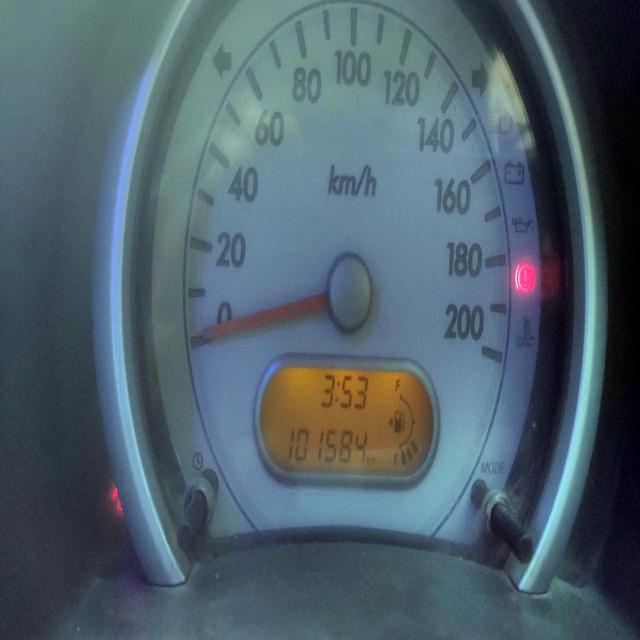odometer: (286, 421, 371, 471)
